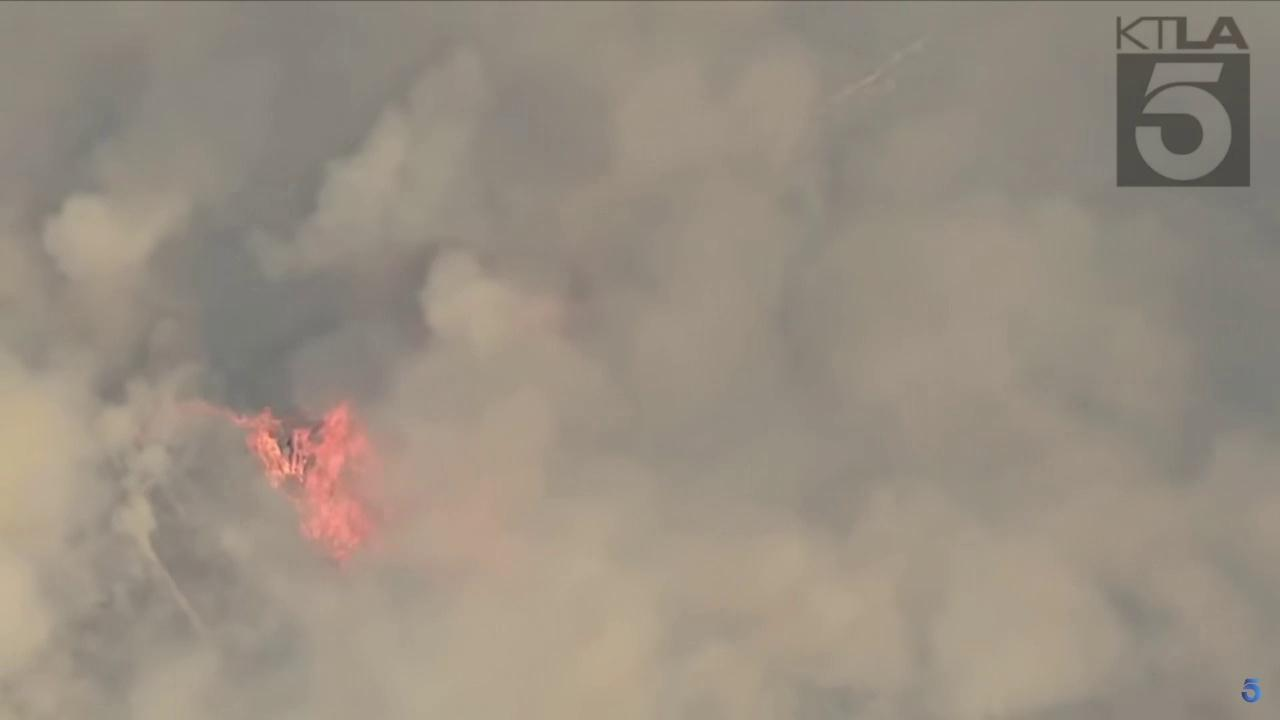fire: (230, 399, 377, 567)
smoke: (0, 0, 1280, 720)
